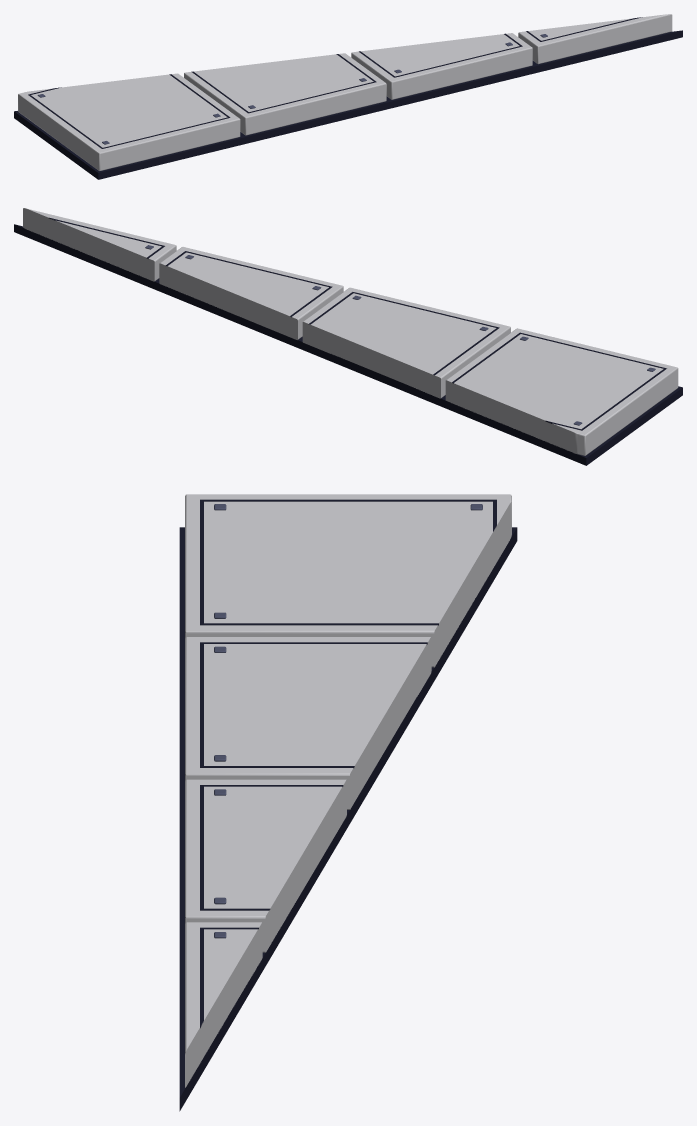
File: roof.slope4.light.glb
3 views of the same model, one above another, from view 1: azimuth 30°, elevation 25°; view 2: azimuth 150°, elevation 25°; view 3: azimuth 270°, elevation 25° (orthographic). The views are drawn at different scales.
Visible parts, largest first — view 1: GEO-roof.slope4.light; view 2: GEO-roof.slope4.light; view 3: GEO-roof.slope4.light.
Boxes of the visible parts, left/top/right/bottom form: GEO-roof.slope4.light: left=14, top=14, right=682, bottom=179; GEO-roof.slope4.light: left=14, top=208, right=682, bottom=465; GEO-roof.slope4.light: left=179, top=494, right=517, bottom=1111.
Bounding box in the file's own units: 4 × 0.17 × 1.
